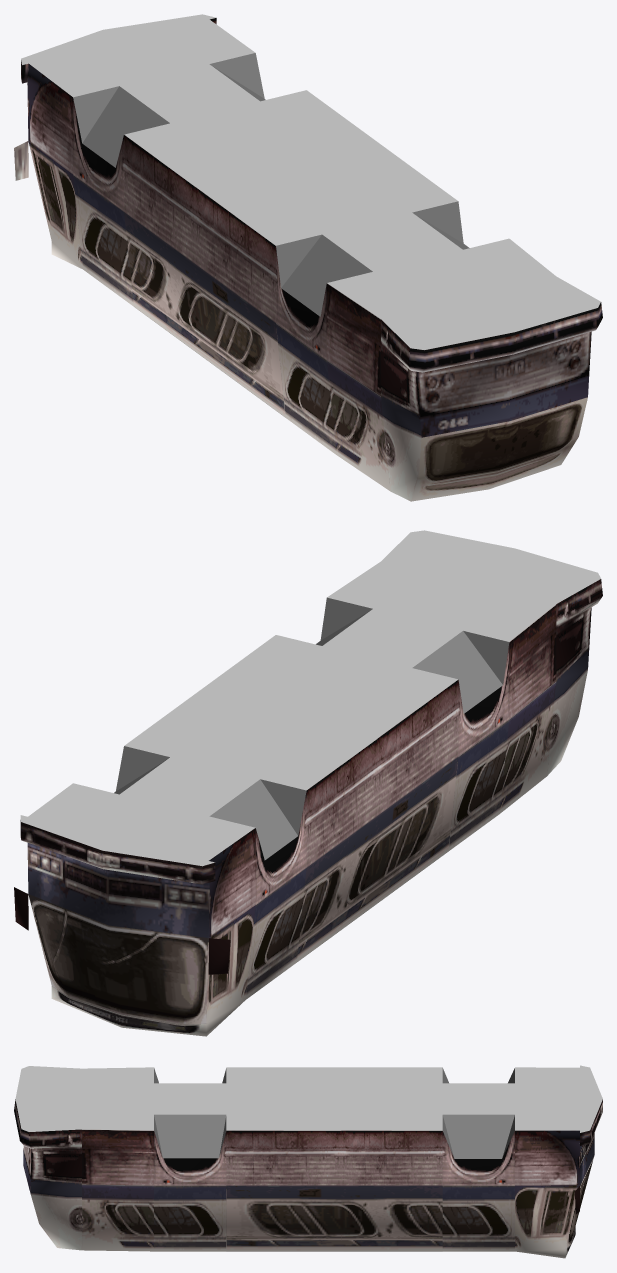
Rendered from RIO_model8_clean.obj.
3 views of the same model, one above another, from view 1: azimuth 30°, elevation 25°; view 2: azimuth 150°, elevation 25°; view 3: azimuth 270°, elevation 25° (orthographic). The views are drawn at different scales.
Parts seen in each view (by area): view 1: RIO_model8_clean; view 2: RIO_model8_clean; view 3: RIO_model8_clean.
Boxes of the visible parts, x1=… form: RIO_model8_clean: x1=14, y1=14, x2=602, y2=501; RIO_model8_clean: x1=14, y1=530, x2=602, y2=1036; RIO_model8_clean: x1=14, y1=1065, x2=602, y2=1258.
Bounding box in the file's own units: 482 × 406 × 1594.
